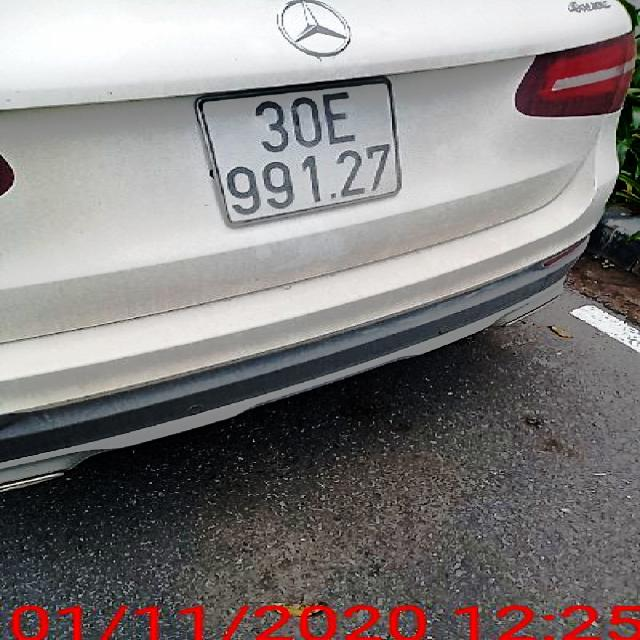license_plate: (201, 80, 406, 226)
